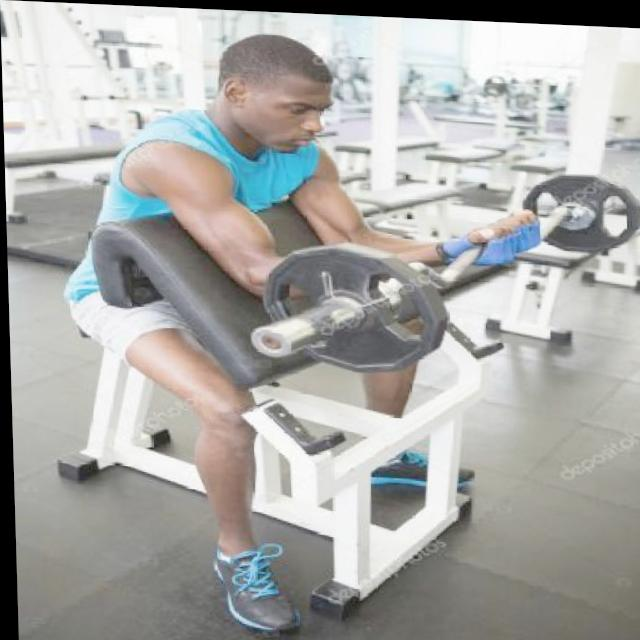barbell: (236, 236, 441, 379)
